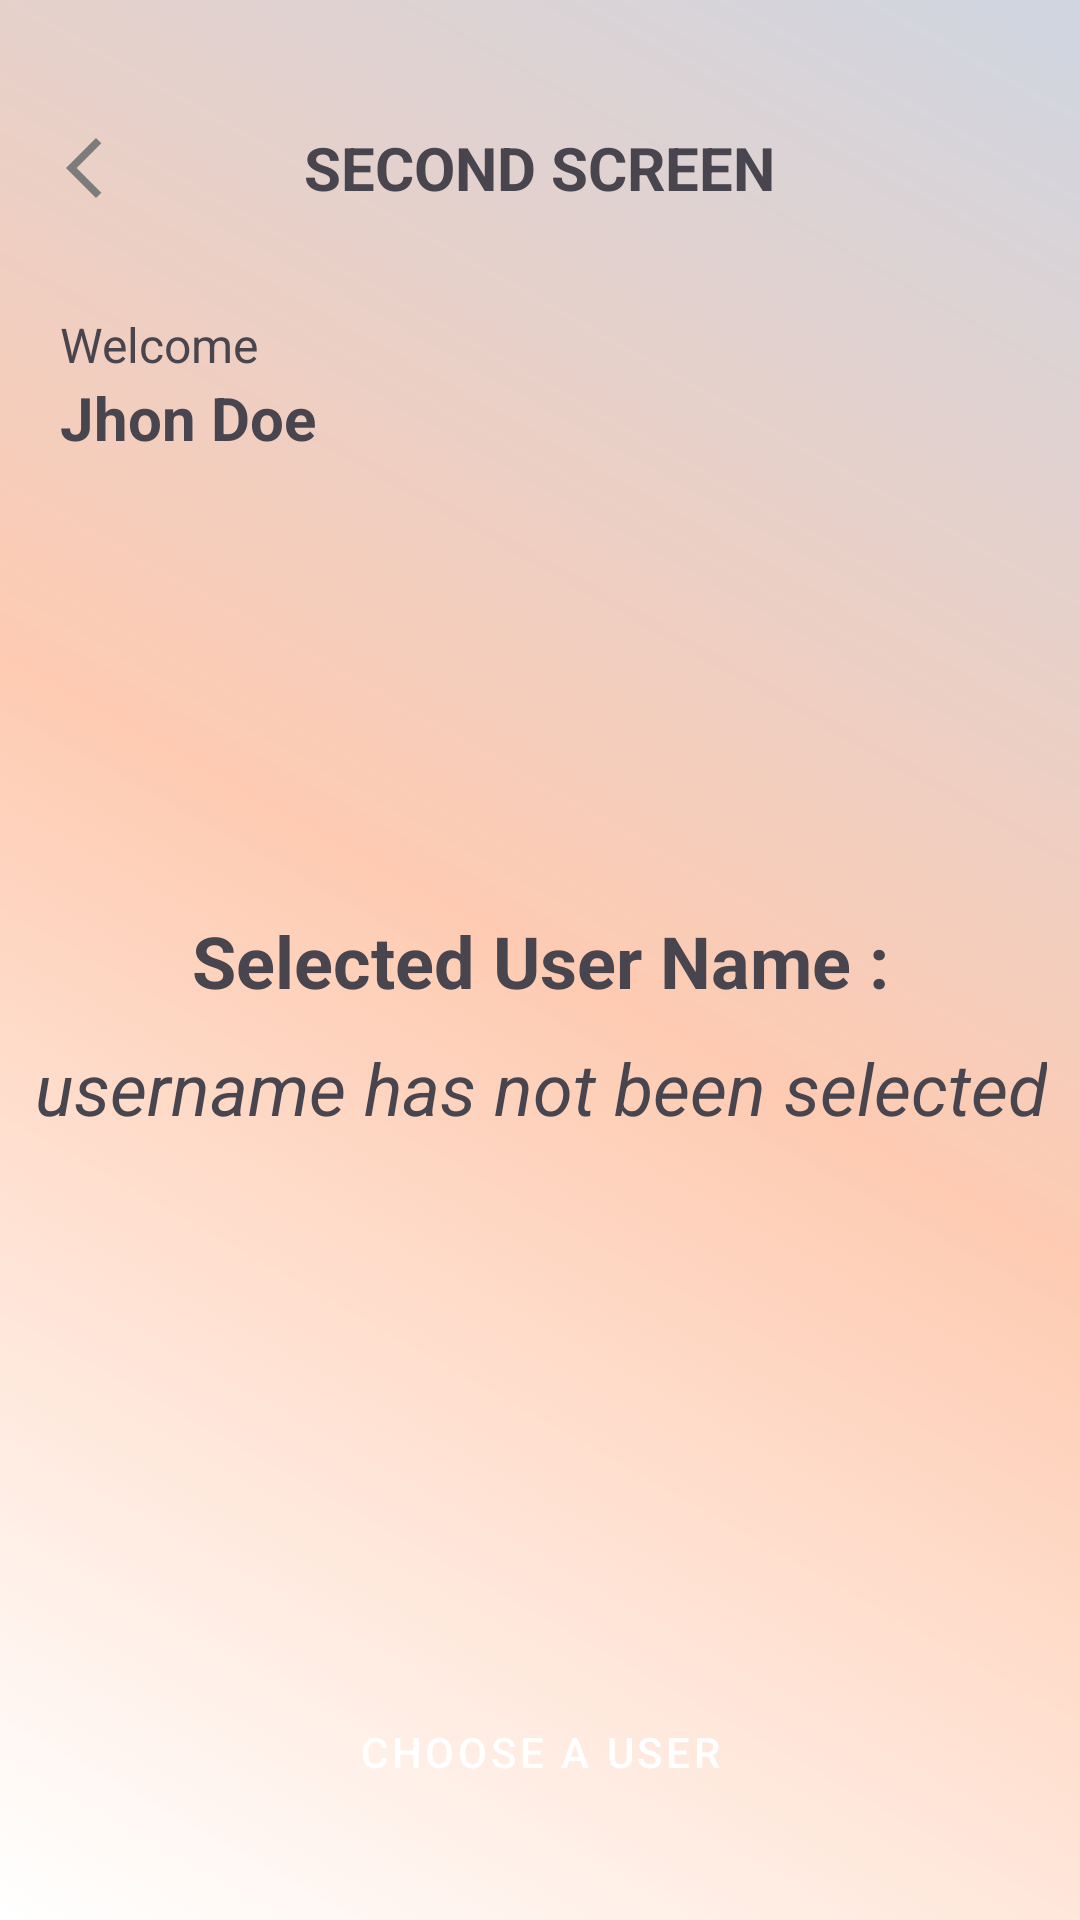

Icon bounding boxes for this 1080*1920 phone screenshot, format (x1, y1, x2, y2):
arrow back: (66, 138, 101, 198)
